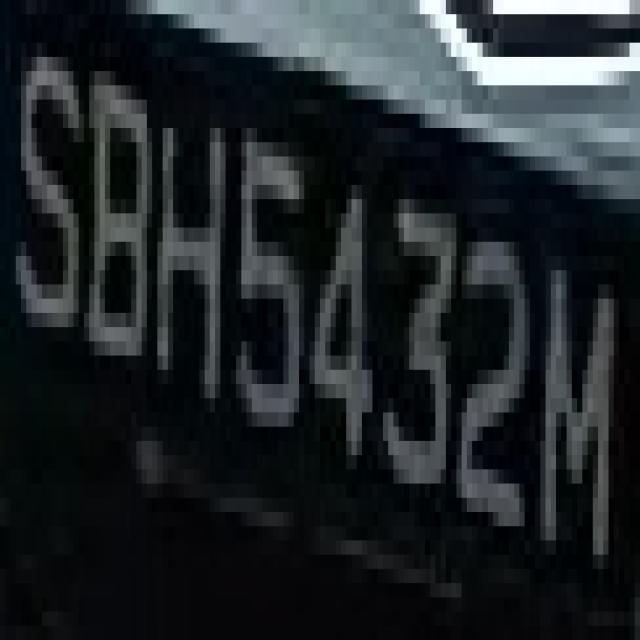2: (451, 156, 540, 554)
3: (367, 157, 451, 540)
4: (294, 156, 378, 470)
5: (226, 86, 310, 470)
B: (79, 29, 152, 398)
H: (157, 71, 231, 427)
M: (4, 6, 5, 14)
S: (5, 29, 79, 412)
